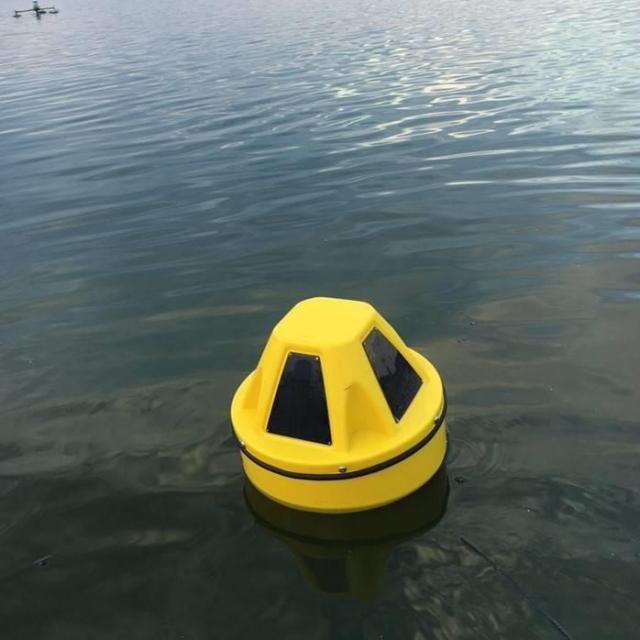buoy: (221, 293, 453, 506)
